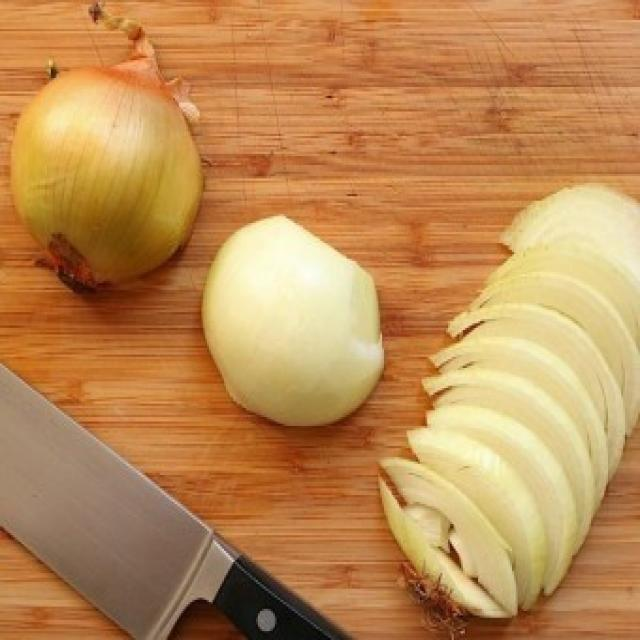Onion: (444, 206, 638, 598), (194, 186, 380, 460), (12, 39, 190, 304)
